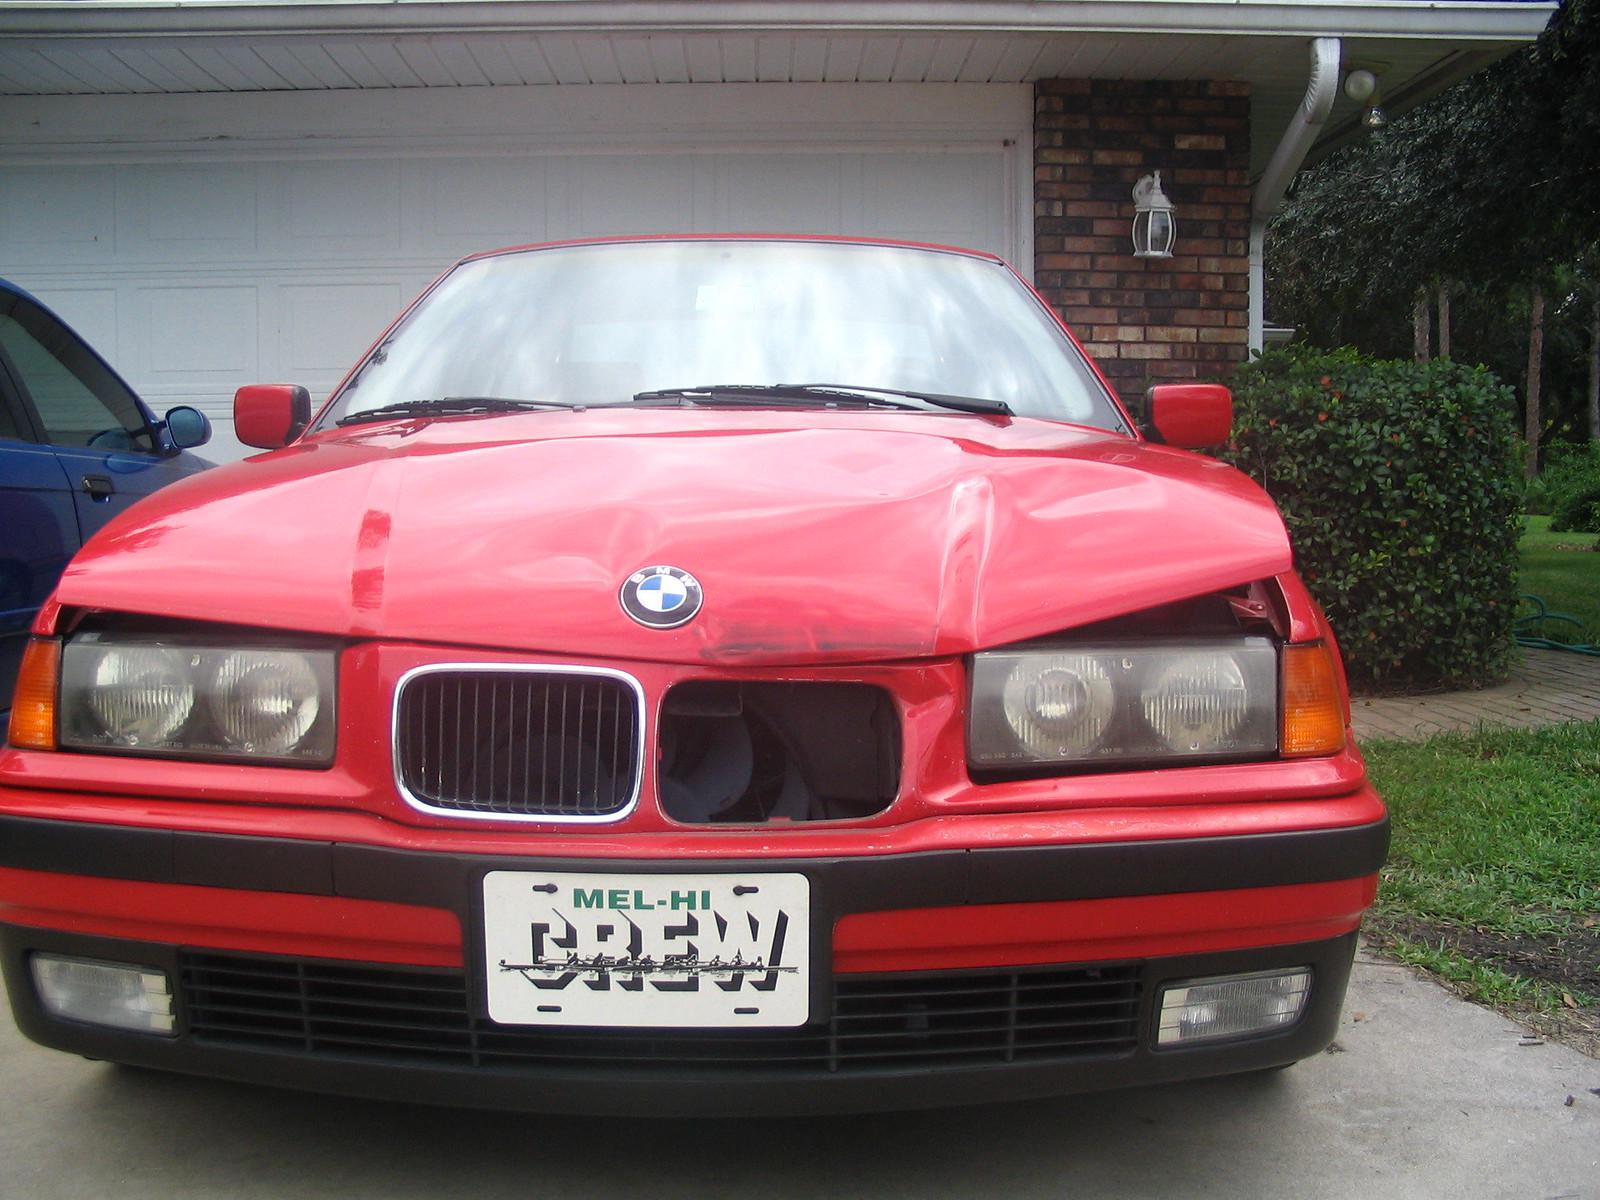bonnet-dent: (275, 424, 1257, 629)
